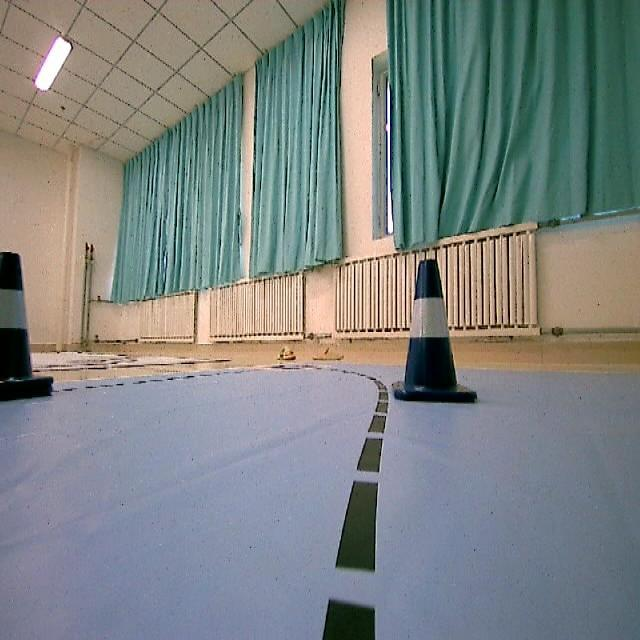obstacle: (376, 247, 489, 416), (0, 247, 69, 412)
